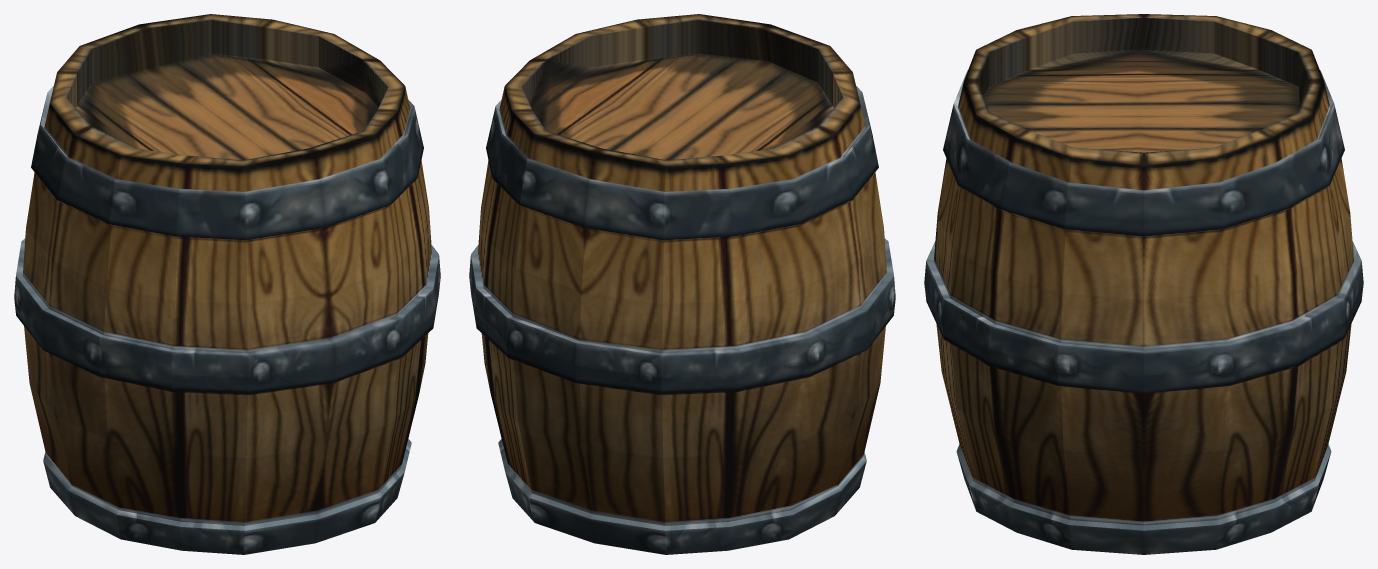
File: Barrel.fbx
The picture shows the model from 3 angles, left to right: view 1: azimuth 30°, elevation 25°; view 2: azimuth 150°, elevation 25°; view 3: azimuth 270°, elevation 25°; orthographic projection. The views are drawn at different scales.
Parts seen in each view (by area): view 1: BarrelNode; view 2: BarrelNode; view 3: BarrelNode.
Part boxes in pixels (left/top/right/bottom): BarrelNode: left=14, top=14, right=440, bottom=554; BarrelNode: left=469, top=14, right=895, bottom=554; BarrelNode: left=924, top=14, right=1363, bottom=554.
Size of the model in its own units: 125 by 125 by 126.
